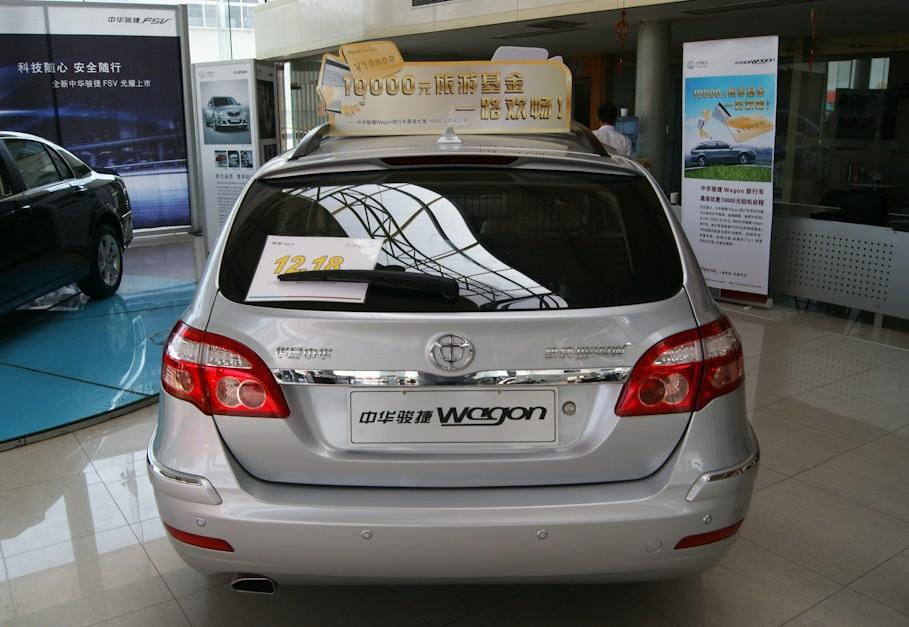Wagon: (146, 124, 761, 584)
